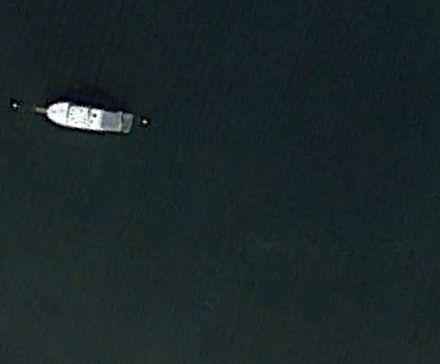Ships: (32, 95, 159, 152)
